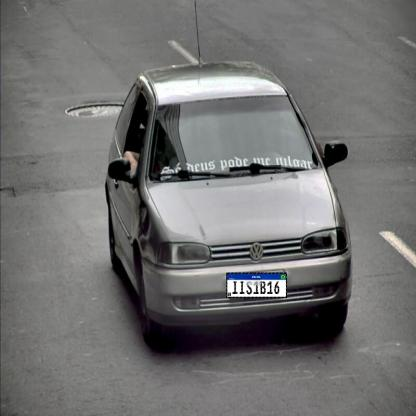PlacaM: (226, 273, 287, 298)
